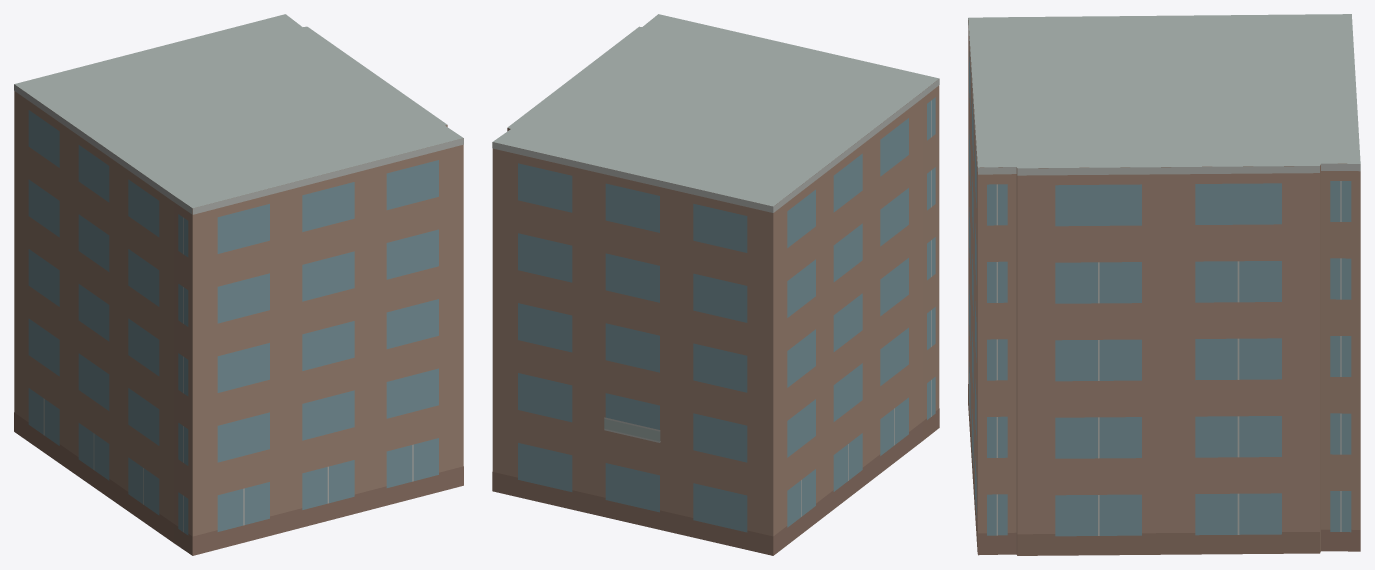
File: survey-upis-33012771.glb
The picture shows the model from 3 angles, left to right: view 1: azimuth 30°, elevation 25°; view 2: azimuth 150°, elevation 25°; view 3: azimuth 270°, elevation 25°; orthographic projection. The views are drawn at different scales.
Parts seen in each view (by area): view 1: survey-upis-33012771.tmp; view 2: survey-upis-33012771.tmp; view 3: survey-upis-33012771.tmp.
Boxes of the visible parts, box(x1,y1,x2,y2) form: survey-upis-33012771.tmp: box(14, 14, 463, 555); survey-upis-33012771.tmp: box(492, 14, 939, 555); survey-upis-33012771.tmp: box(968, 14, 1360, 555).
Size of the model in its own units: 11.11 by 13 by 11.94.
